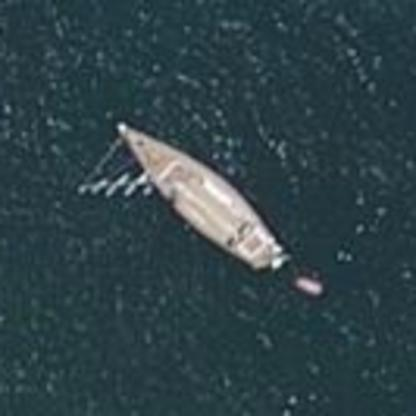ship: (72, 110, 328, 306)
